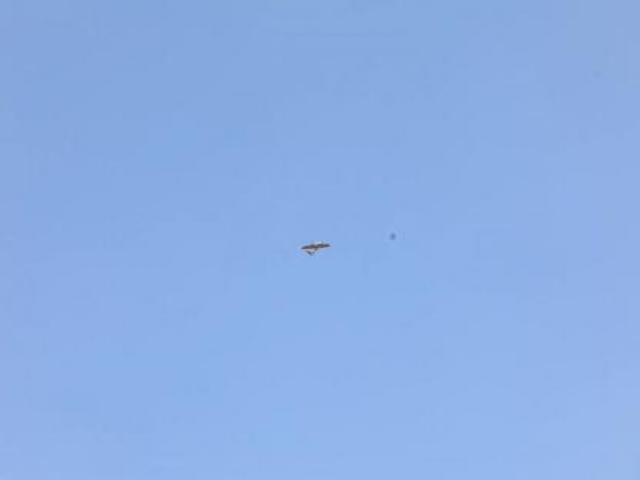uav: (298, 239, 333, 256)
